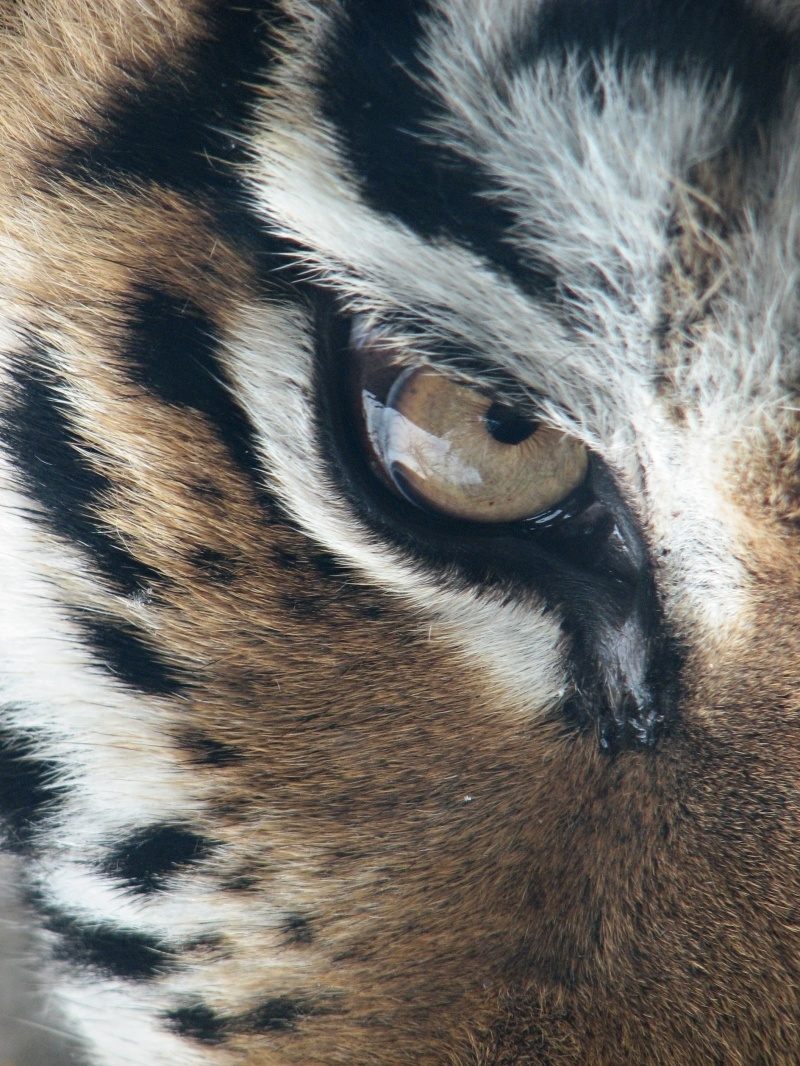tigre: (4, 7, 800, 1063)
